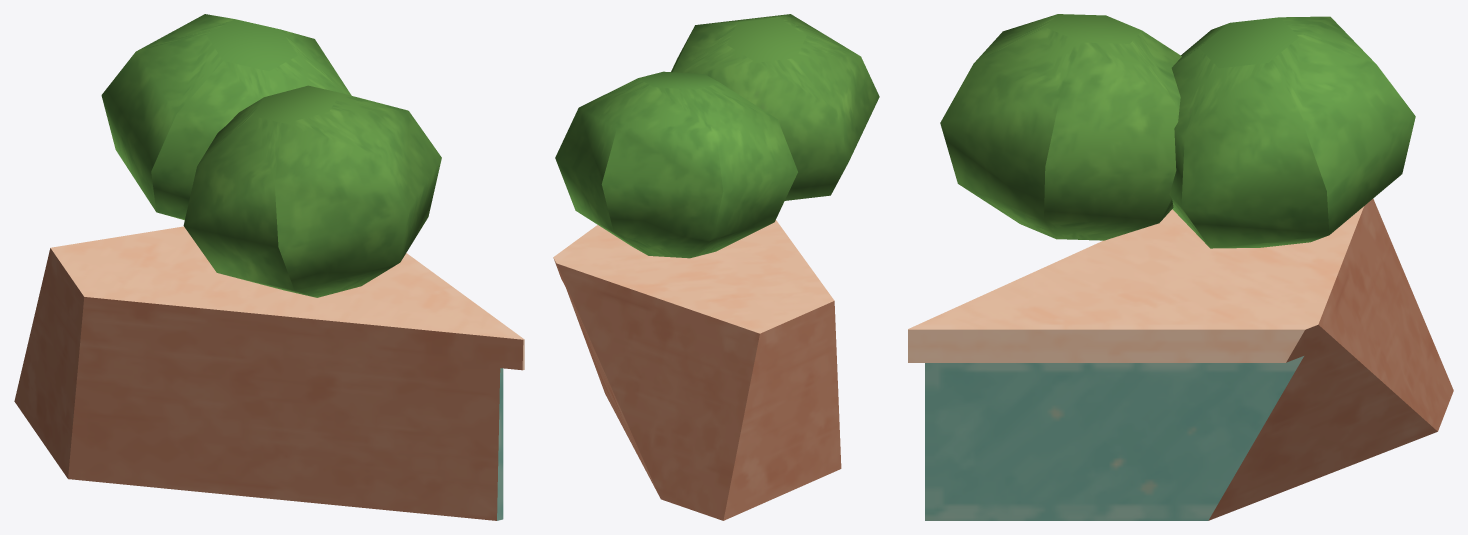
Rendered from palm_bed_s04.fbx.
3 renders of one model, left to right at view 1: azimuth 30°, elevation 25°; view 2: azimuth 150°, elevation 25°; view 3: azimuth 270°, elevation 25°, orthographic. The views are drawn at different scales.
Visible parts, largest first — view 1: palm_bed_s04; view 2: palm_bed_s04; view 3: palm_bed_s04.
Boxes of the visible parts, bbox=[...] form: palm_bed_s04: bbox=[14, 14, 524, 520]; palm_bed_s04: bbox=[553, 14, 879, 520]; palm_bed_s04: bbox=[908, 14, 1453, 520].
Size of the model in its own units: 3.08 by 3.93 by 4.49.
